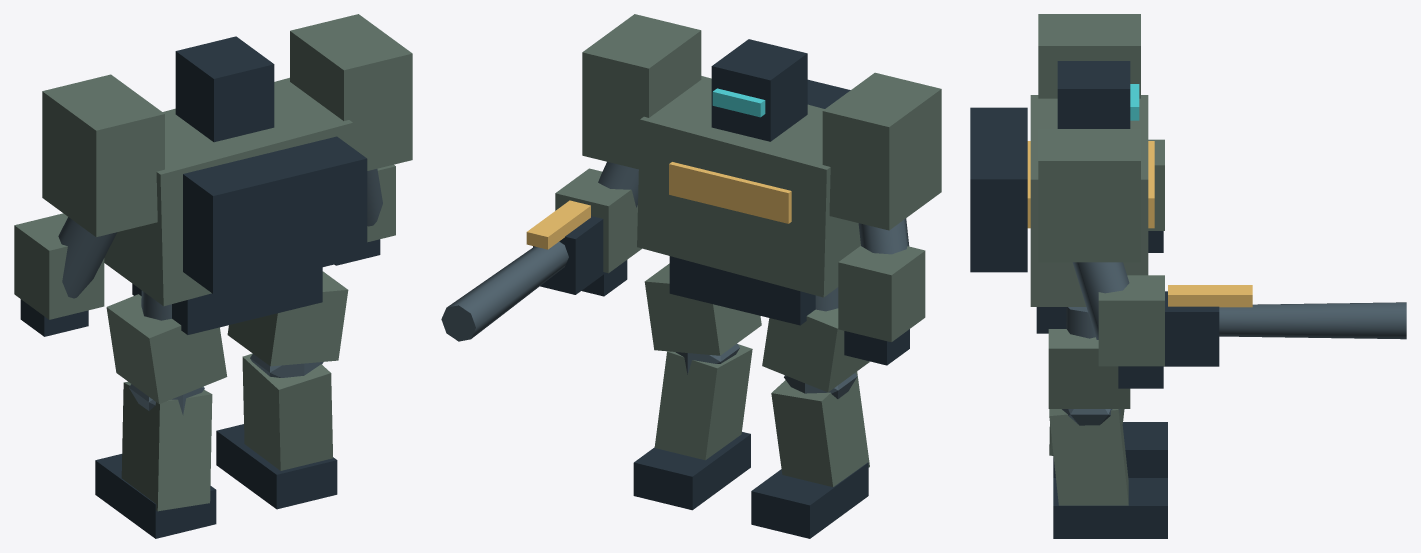
File: frame-minotaur.glb
3 views of the same model, side by side, from view 1: azimuth 30°, elevation 25°; view 2: azimuth 150°, elevation 25°; view 3: azimuth 270°, elevation 25° (orthographic). The views are drawn at different scales.
Parts seen in each view (by area): view 1: frame-minotaur; view 2: frame-minotaur; view 3: frame-minotaur.
Boxes of the visible parts, box(x1,y1,x2,y2) form: frame-minotaur: box(14, 14, 412, 538); frame-minotaur: box(441, 14, 941, 538); frame-minotaur: box(970, 14, 1406, 538).
Bounding box in the file's own units: 1.26 × 1.54 × 1.44.
